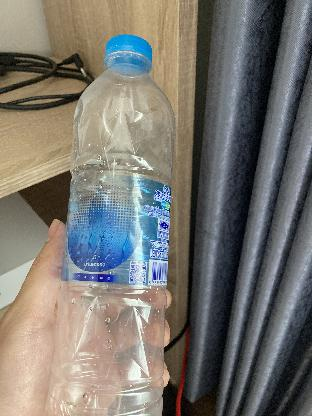Plastic Bottle: (60, 30, 181, 416)
